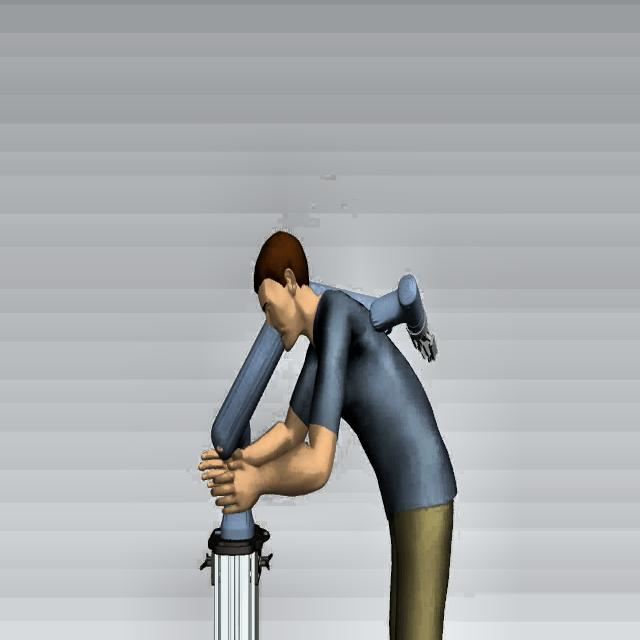robot: (195, 264, 449, 555)
